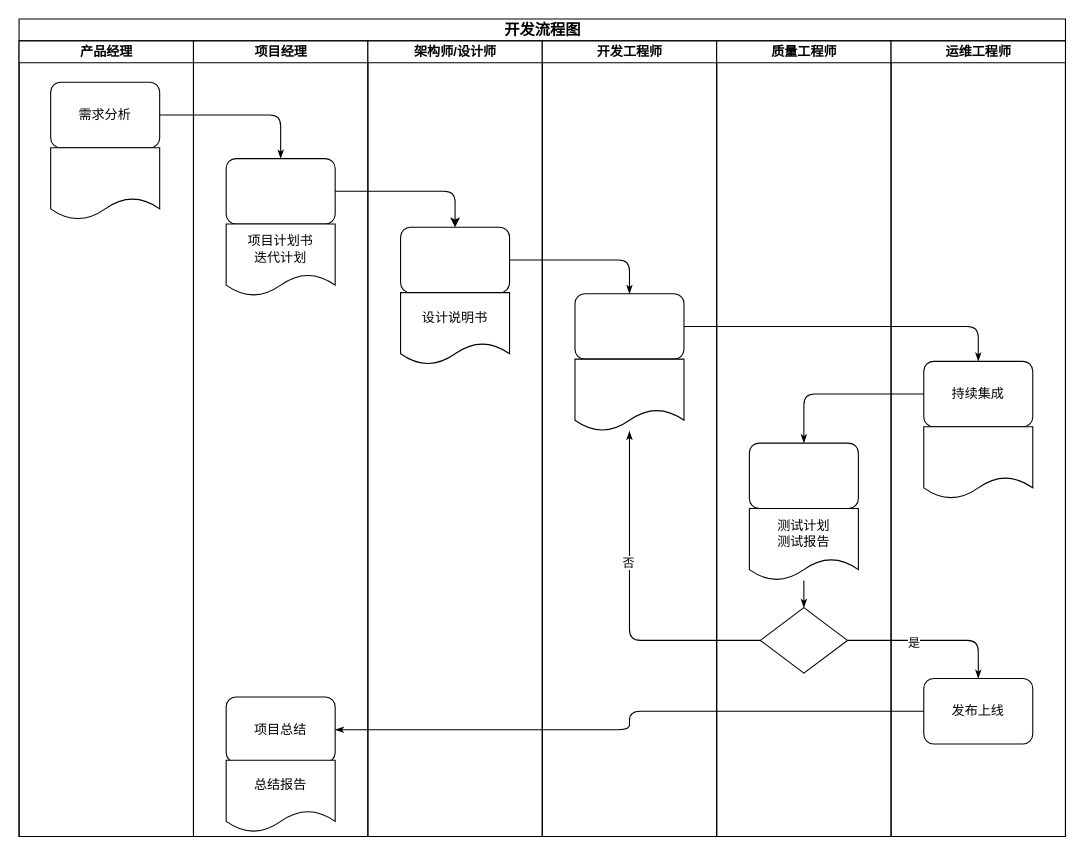
This 1085x856 diagram has some shape labels left out. Each missing label, with the centre of its shape:
"代码" belongs at (629,394).
"开发" belongs at (629,326).
"测试" belongs at (803,475).
"系统架构设计 界面设计" belongs at (454,259).
"通过" belongs at (803,640).
"部署包/容器" belongs at (978,462).
"需求规格说明书" belongs at (105,183).
"项目规划" belongs at (280,191).
